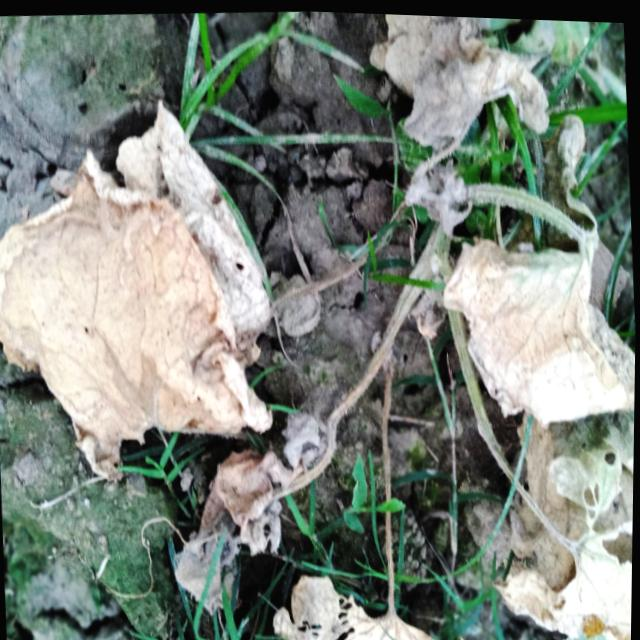Bacterial-Wilt: (0, 94, 275, 486), (442, 109, 636, 423), (403, 14, 553, 145)
